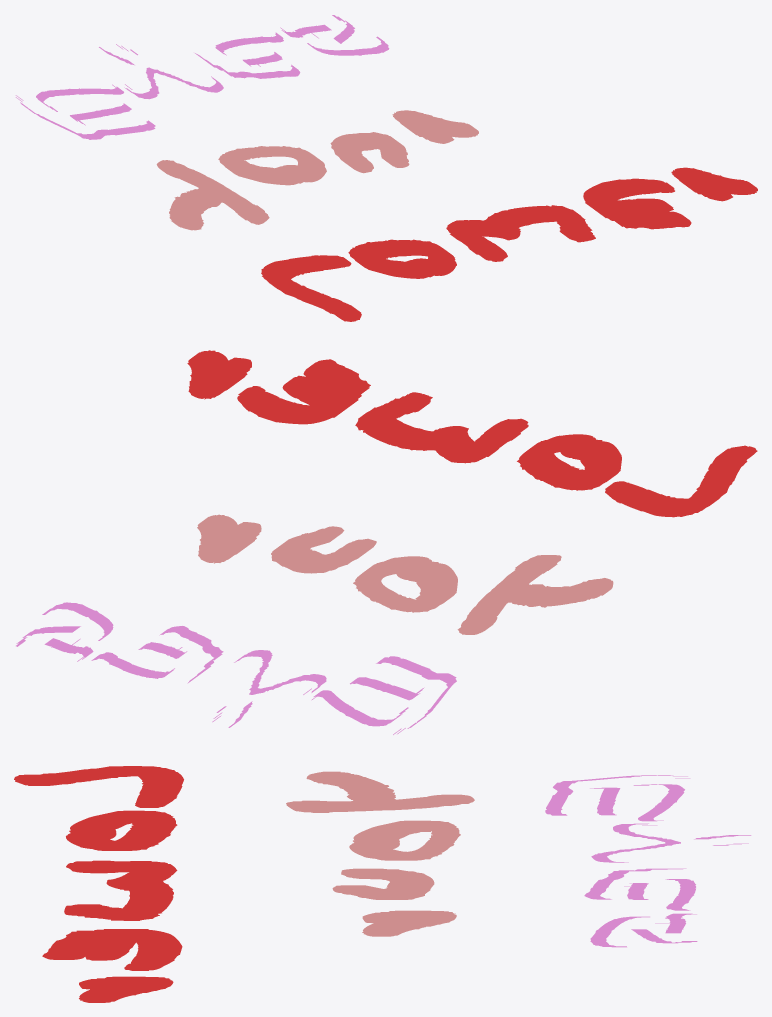
The model's file is render2.gltf.
3 renders of one model, top to bottom at view 1: azimuth 30°, elevation 25°; view 2: azimuth 150°, elevation 25°; view 3: azimuth 270°, elevation 25°, orthographic. The views are drawn at different scales.
Visible parts, largest first — view 1: Cap 1 (×2), Cap 2 (×2), Extrude, Extrude.2, Extrude.1; view 2: Cap 1 (×2), Cap 2 (×2), Extrude, Extrude.2, Extrude.1; view 3: Cap 1 (×2), Cap 2 (×2), Extrude, Extrude.2, Extrude.1.
Part boxes in pixels (x1=…): Cap 1 (×2): x1=164, y1=115, x2=691, y2=278; Cap 2 (×2): x1=218, y1=146, x2=750, y2=316; Extrude: x1=261, y1=171, x2=757, y2=321; Extrude.2: x1=15, y1=15, x2=389, y2=139; Extrude.1: x1=156, y1=110, x2=478, y2=227; Cap 1 (×2): x1=205, y1=359, x2=621, y2=628; Cap 2 (×2): x1=187, y1=357, x2=748, y2=612; Extrude: x1=188, y1=350, x2=757, y2=514; Extrude.2: x1=16, y1=602, x2=456, y2=734; Extrude.1: x1=197, y1=515, x2=611, y2=634; Cap 1 (×2): x1=42, y1=771, x2=459, y2=970; Cap 2 (×2): x1=30, y1=766, x2=460, y2=1002; Extrude: x1=14, y1=766, x2=182, y2=1002; Extrude.2: x1=545, y1=775, x2=751, y2=947; Extrude.1: x1=296, y1=771, x2=474, y2=936.
Size of the model in its own units: 719 by 9.97 by 948.
